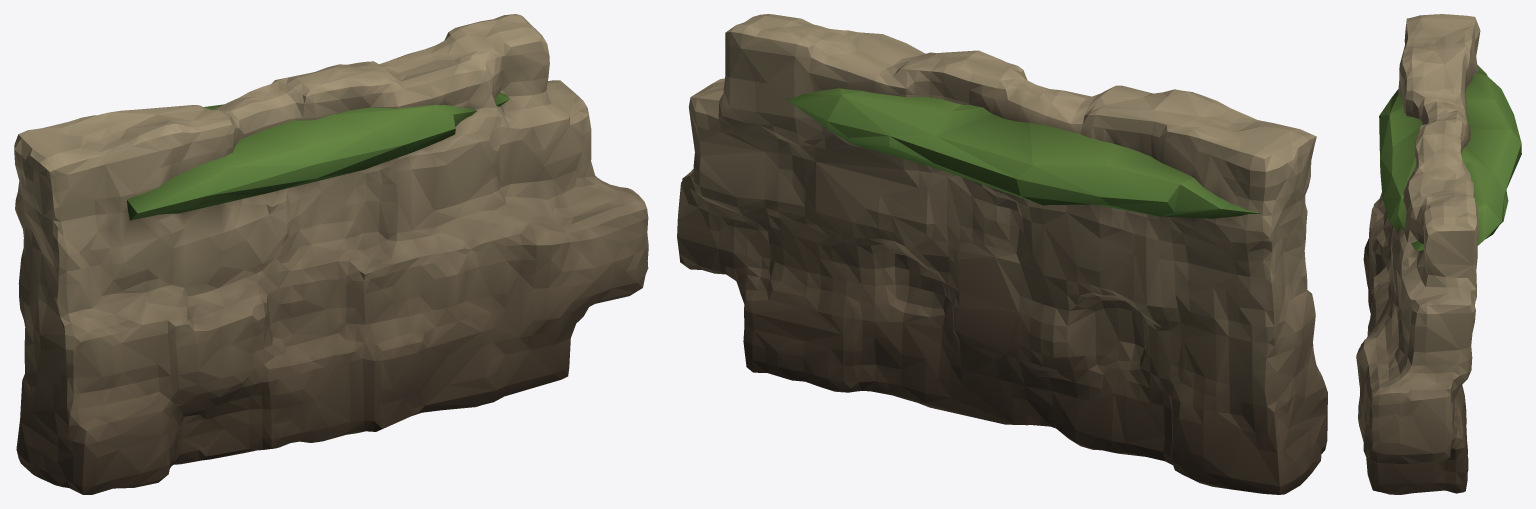
The model's file is klif_1.glb.
The picture shows the model from 3 angles, left to right: view 1: azimuth 30°, elevation 25°; view 2: azimuth 150°, elevation 25°; view 3: azimuth 270°, elevation 25°; orthographic projection. The views are drawn at different scales.
Visible parts, largest first — view 1: klif_1; view 2: klif_1; view 3: klif_1.
Part boxes in pixels (x1,y1,x2,y2): klif_1: (14, 14, 648, 494); klif_1: (677, 14, 1327, 494); klif_1: (1356, 14, 1521, 494).
Bounding box in the file's own units: 2.36 × 1.31 × 0.6822.
